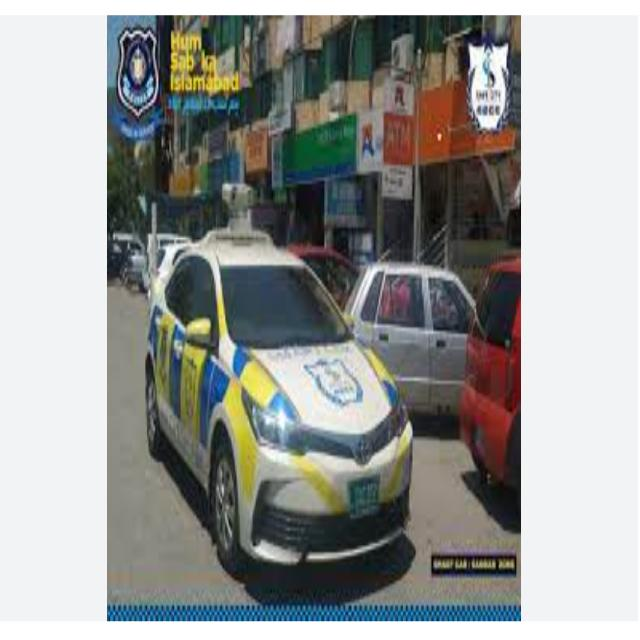police: (147, 202, 423, 585)
